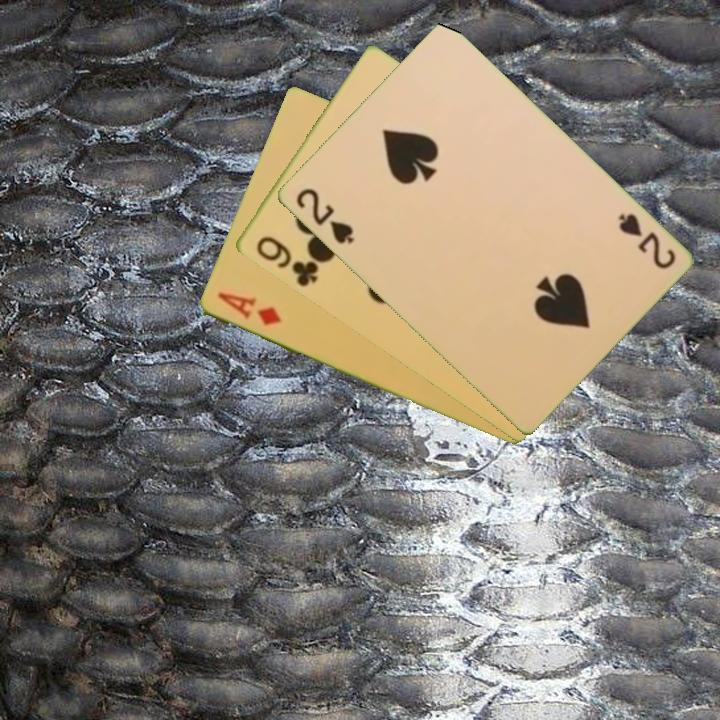2s: (614, 209, 679, 273), (291, 184, 357, 247)
9c: (252, 232, 321, 290)
Ad: (213, 289, 284, 329)
